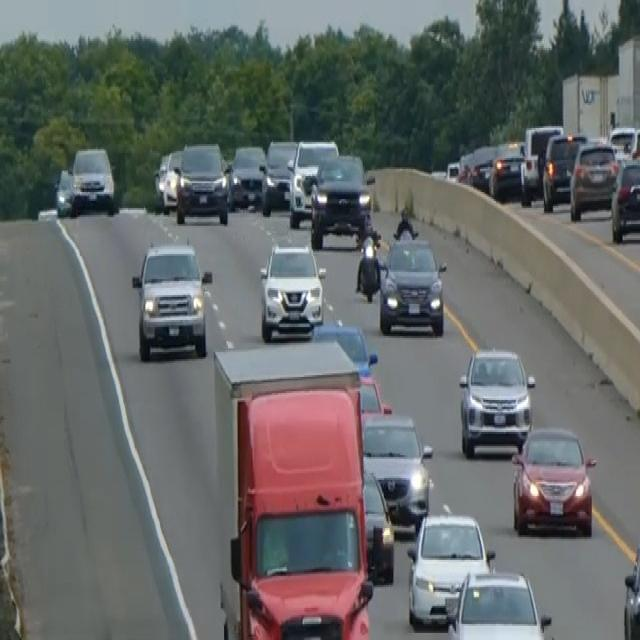car: (405, 507, 494, 628), (510, 423, 597, 537), (457, 343, 535, 457), (361, 409, 433, 531), (445, 566, 552, 638), (377, 233, 447, 336), (258, 238, 325, 342), (309, 151, 374, 247), (174, 138, 229, 225), (286, 137, 339, 226), (568, 137, 618, 220), (310, 318, 378, 377), (361, 468, 395, 583), (541, 130, 586, 212), (519, 121, 562, 204), (259, 137, 298, 215), (71, 144, 115, 213), (227, 142, 266, 210), (610, 154, 639, 242), (487, 139, 526, 199), (153, 146, 183, 212), (622, 530, 639, 638), (356, 370, 391, 421), (54, 165, 76, 217), (469, 148, 495, 192), (152, 149, 169, 208)
jeep: (130, 238, 213, 361)
lorry: (211, 338, 375, 638)
motorcycle: (354, 230, 383, 302), (392, 204, 418, 242)
